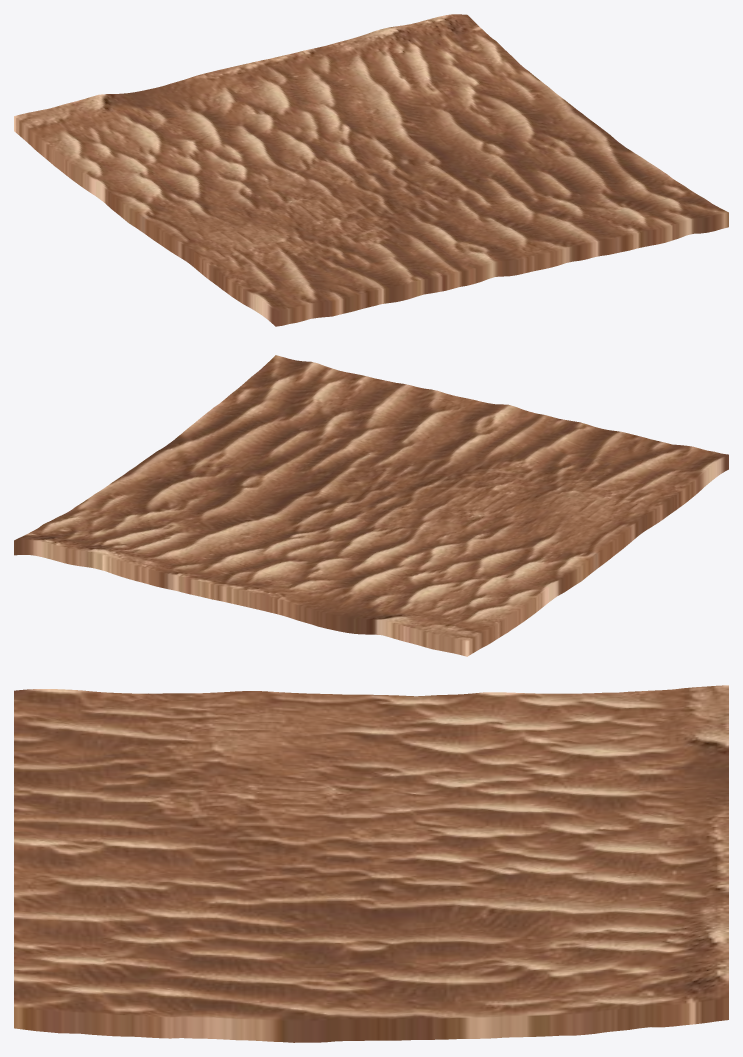
3 renders of one model, top to bottom at view 1: azimuth 30°, elevation 25°; view 2: azimuth 150°, elevation 25°; view 3: azimuth 270°, elevation 25°, orthographic. The views are drawn at different scales.
Parts seen in each view (by area): view 1: L6_30_46; view 2: L6_30_46; view 3: L6_30_46.
Boxes of the visible parts, bbox=[...] form: L6_30_46: bbox=[14, 14, 728, 326]; L6_30_46: bbox=[14, 355, 728, 656]; L6_30_46: bbox=[14, 685, 728, 1042].
Bounding box in the file's own units: 225 × 19.67 × 225.
1 material, 1 textured.
